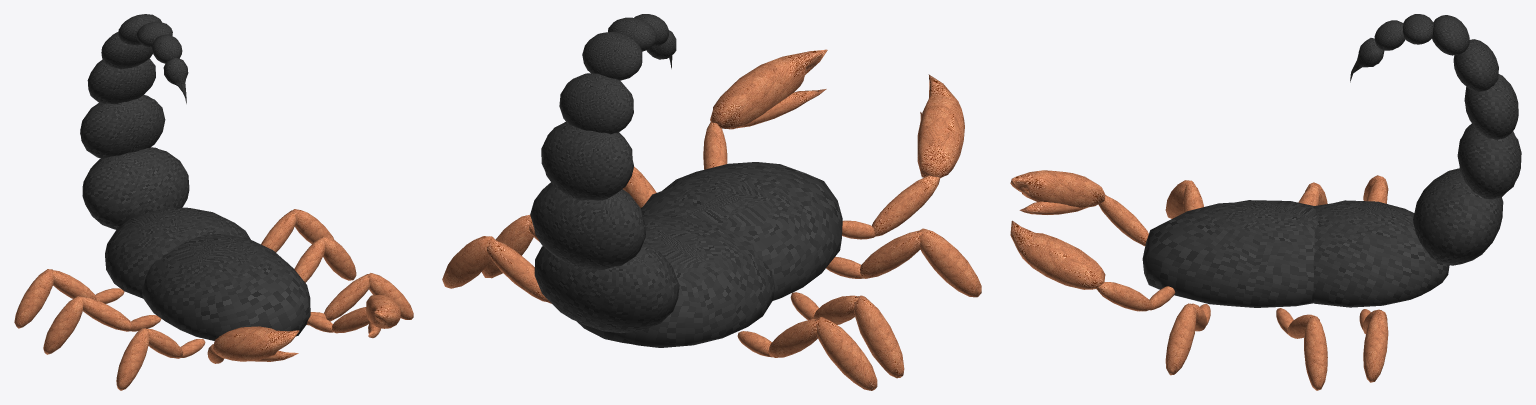
The model's file is scorpion_000013.obj.
The picture shows the model from 3 angles, left to right: view 1: azimuth 30°, elevation 25°; view 2: azimuth 150°, elevation 25°; view 3: azimuth 270°, elevation 25°; orthographic projection. The views are drawn at different scales.
Parts seen in each view (by area): view 1: Sphere.010_Sphere.012, Sphere.002_Sphere.004, Sphere.011_Sphere.013, Sphere.003_Sphere.005, Sphere.030_Sphere.000, Sphere.004_Sphere.006, Sphere.012_Sphere.020, Sphere.000_Sphere.019, Sphere.014_Sphere.023, Sphere.016_Sphere.022, Sphere.013_Sphere.017, Sphere.018_Sphere.025 (+9 smaller); view 2: Sphere.010_Sphere.012, Sphere.011_Sphere.013, Sphere.002_Sphere.004, Sphere.030_Sphere.000, Sphere.003_Sphere.005, Sphere.004_Sphere.006, Sphere.014_Sphere.023, Sphere.005_Sphere.007, Sphere.012_Sphere.020, Sphere.018_Sphere.025, Sphere.028_Sphere.046, Sphere.006_Sphere.008 (+11 smaller); view 3: Sphere.010_Sphere.012, Sphere.011_Sphere.013, Sphere.002_Sphere.004, Sphere.030_Sphere.000, Sphere.003_Sphere.005, Sphere.004_Sphere.006, Sphere.028_Sphere.046, Sphere.000_Sphere.019, Sphere.005_Sphere.007, Sphere.014_Sphere.023, Sphere.012_Sphere.020, Sphere.006_Sphere.008 (+7 smaller).
Boxes of the visible parts, x1,y1,x2,y2 form: Sphere.010_Sphere.012: (142, 234, 310, 340); Sphere.002_Sphere.004: (82, 147, 189, 229); Sphere.011_Sphere.013: (105, 207, 250, 298); Sphere.003_Sphere.005: (80, 95, 165, 158); Sphere.030_Sphere.000: (212, 294, 401, 361); Sphere.004_Sphere.006: (87, 58, 155, 104); Sphere.012_Sphere.020: (43, 236, 356, 354); Sphere.000_Sphere.019: (116, 273, 413, 390); Sphere.014_Sphere.023: (14, 209, 334, 328); Sphere.016_Sphere.022: (80, 237, 326, 331); Sphere.013_Sphere.017: (146, 274, 369, 358); Sphere.018_Sphere.025: (52, 210, 296, 299); Sphere.010_Sphere.012: (641, 162, 842, 300); Sphere.011_Sphere.013: (577, 212, 774, 347); Sphere.002_Sphere.004: (534, 241, 679, 333); Sphere.030_Sphere.000: (710, 49, 964, 178); Sphere.003_Sphere.005: (530, 182, 646, 269); Sphere.004_Sphere.006: (541, 122, 633, 200); Sphere.014_Sphere.023: (442, 236, 877, 390); Sphere.005_Sphere.007: (559, 73, 633, 134); Sphere.012_Sphere.020: (482, 215, 904, 378); Sphere.018_Sphere.025: (487, 239, 819, 357); Sphere.028_Sphere.046: (703, 122, 939, 236); Sphere.006_Sphere.008: (582, 32, 642, 80); Sphere.010_Sphere.012: (1142, 200, 1318, 307); Sphere.011_Sphere.013: (1312, 200, 1449, 307); Sphere.002_Sphere.004: (1413, 168, 1503, 265); Sphere.030_Sphere.000: (1010, 170, 1105, 289); Sphere.003_Sphere.005: (1457, 123, 1521, 199); Sphere.004_Sphere.006: (1464, 74, 1518, 139); Sphere.028_Sphere.046: (1096, 195, 1151, 311); Sphere.000_Sphere.019: (1165, 180, 1196, 375); Sphere.005_Sphere.007: (1453, 39, 1498, 91); Sphere.014_Sphere.023: (1363, 175, 1388, 382); Sphere.012_Sphere.020: (1304, 182, 1327, 390); Sphere.006_Sphere.008: (1432, 15, 1469, 55).
Size of the model in its own units: 0.9639 by 0.75 by 1.19.
2 materials, 2 textured.
